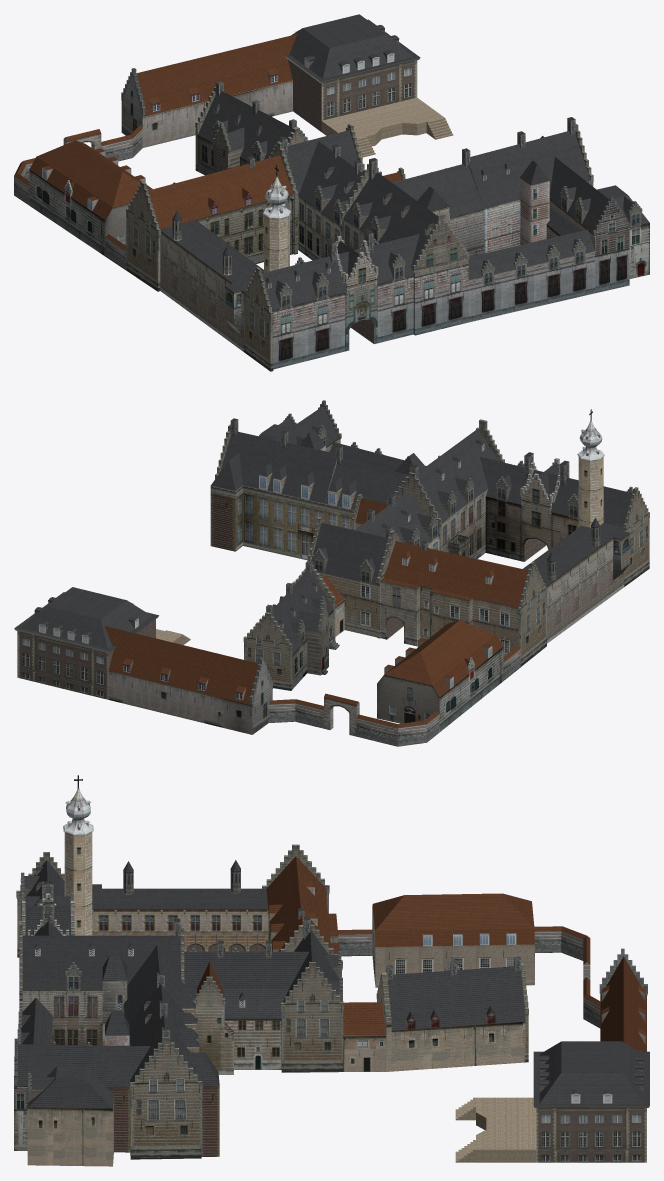
Rendered from gothic_city_palace_-_het_markiezenhof.glb.
3 renders of one model, top to bottom at view 1: azimuth 30°, elevation 25°; view 2: azimuth 150°, elevation 25°; view 3: azimuth 270°, elevation 25°, orthographic. The views are drawn at different scales.
Parts seen in each view (by area): view 1: Material2 (×3); view 2: Material2 (×3); view 3: Material2 (×3).
Part boxes in pixels (left/top/right/bottom): Material2 (×3): left=14, top=14, right=649, bottom=371; Material2 (×3): left=14, top=400, right=649, bottom=746; Material2 (×3): left=14, top=775, right=649, bottom=1166.
Bounding box in the file's own units: 47 × 20.1 × 58.24.
Materials: 5 (4 with a texture image).
